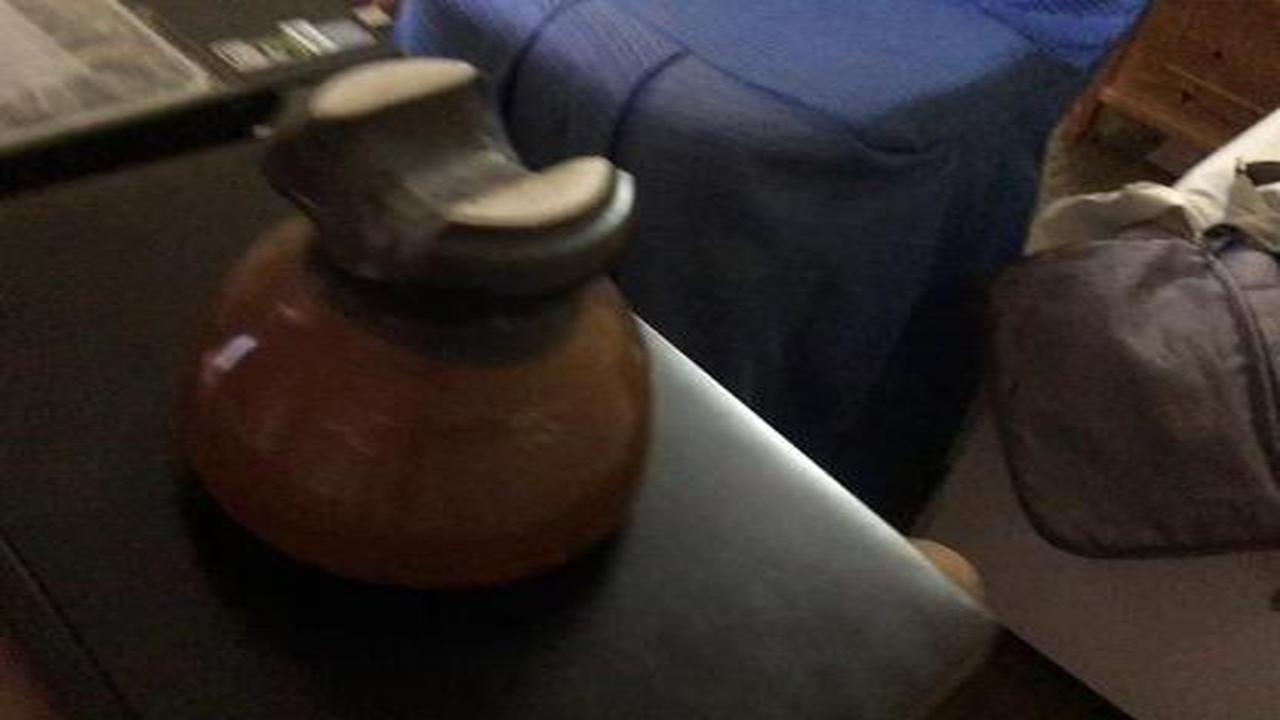insulator_pin: (167, 42, 693, 611)
